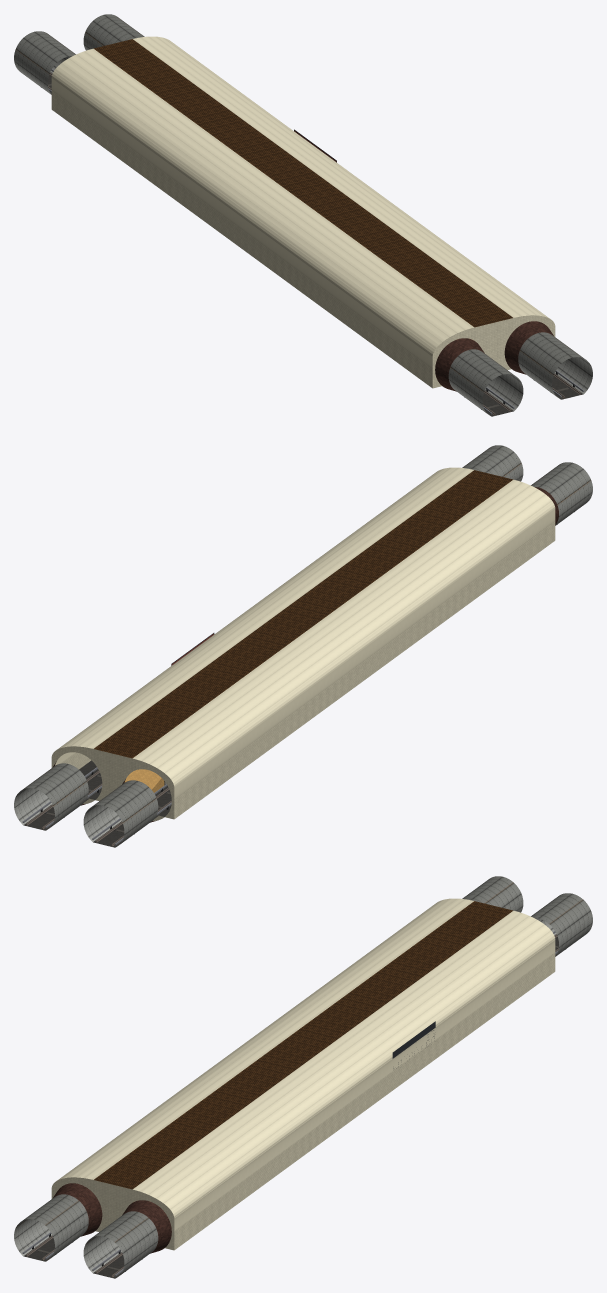
Rendered from station_kelvinhall.glb.
3 renders of one model, top to bottom at view 1: azimuth 30°, elevation 25°; view 2: azimuth 150°, elevation 25°; view 3: azimuth 330°, elevation 25°, orthographic.
Parts seen in each view (by area): view 1: hall_shell, end_walls; view 2: hall_shell, end_walls; view 3: hall_shell, end_walls.
Part boxes in pixels (left/top/right/bottom): hall_shell: left=41, top=36, right=584, bottom=415; end_walls: left=14, top=14, right=592, bottom=416; hall_shell: left=22, top=467, right=557, bottom=846; end_walls: left=14, top=445, right=592, bottom=847; hall_shell: left=22, top=898, right=565, bottom=1277; end_walls: left=14, top=876, right=592, bottom=1278.
Bounding box in the file's own units: 10.04 × 4.6 × 66.4.
31 materials, 22 textured.
